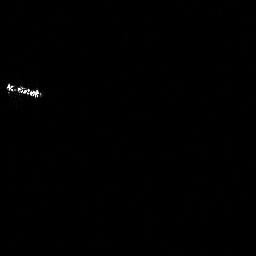ship: (5, 80, 44, 100)
